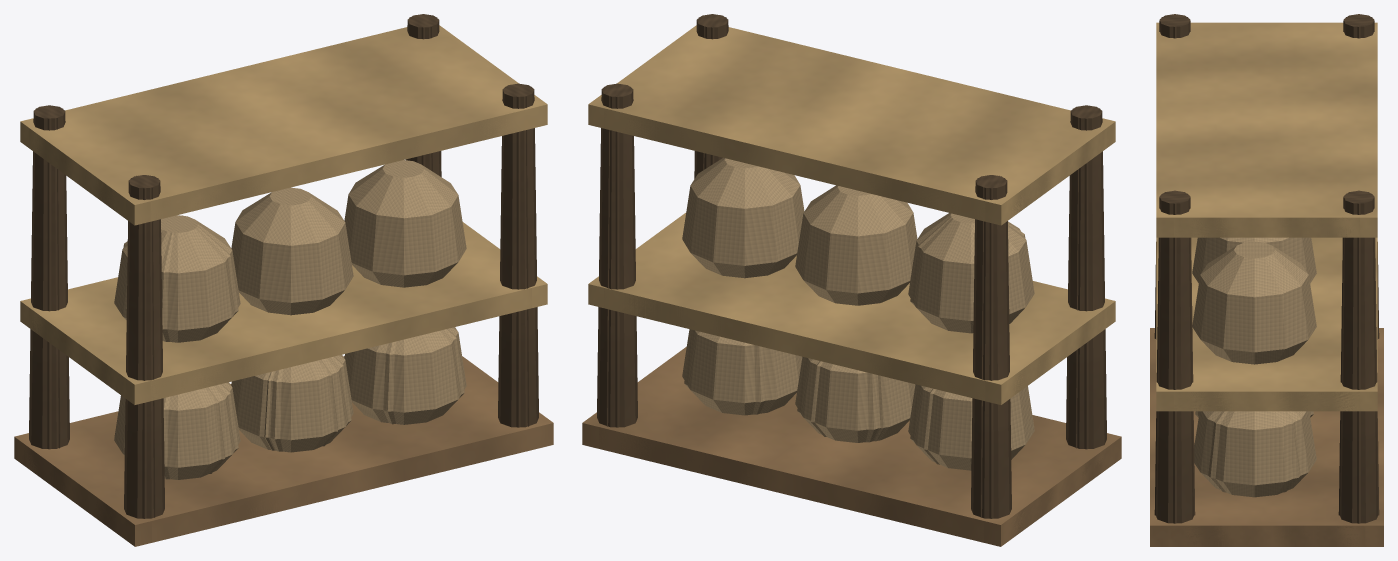
File: GrainBay.fbx
3 renders of one model, left to right at view 1: azimuth 30°, elevation 25°; view 2: azimuth 150°, elevation 25°; view 3: azimuth 270°, elevation 25°, orthographic. The views are drawn at different scales.
Parts seen in each view (by area): view 1: GrainBayDetail0, GrainBayDetail1, GrainBayDetail2; view 2: GrainBayDetail0, GrainBayDetail1, GrainBayDetail2; view 3: GrainBayDetail0, GrainBayDetail1, GrainBayDetail2.
Part boxes in pixels (x1,y1,x2,y2): GrainBayDetail0: (24,14,543,542); GrainBayDetail1: (14,14,553,546); GrainBayDetail2: (37,15,529,517); GrainBayDetail0: (592,14,1111,542); GrainBayDetail1: (582,14,1121,546); GrainBayDetail2: (605,15,1098,517); GrainBayDetail0: (1150,14,1383,546); GrainBayDetail1: (1150,14,1383,546); GrainBayDetail2: (1154,14,1379,515).
Size of the model in its own units: 300 by 240 by 150.
1 material, 1 textured.
